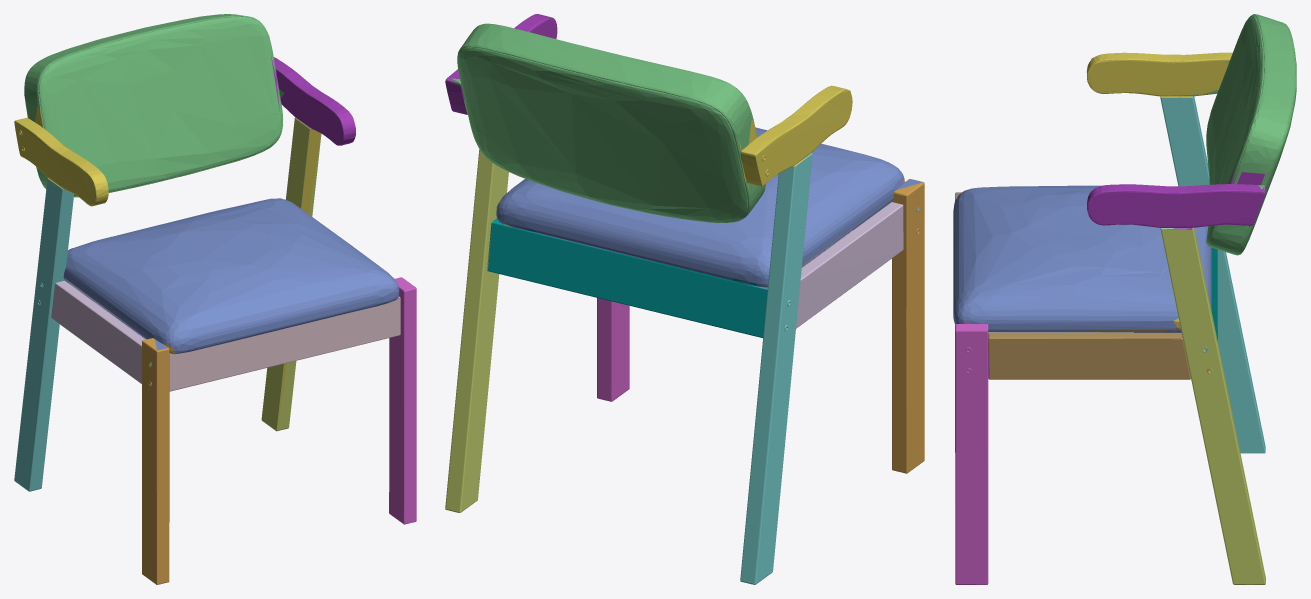
3 views of the same model, side by side, from view 1: azimuth 30°, elevation 25°; view 2: azimuth 150°, elevation 25°; view 3: azimuth 270°, elevation 25° (orthographic). The views are drawn at different scales.
Parts seen in each view (by area): view 1: world; view 2: world; view 3: world.
Boxes of the visible parts, x1,y1,x2,y2 form: world: (14, 14, 416, 584); world: (445, 14, 924, 584); world: (953, 14, 1296, 584).
Bounding box in the file's own units: 0.4981 × 0.7567 × 0.5192.
